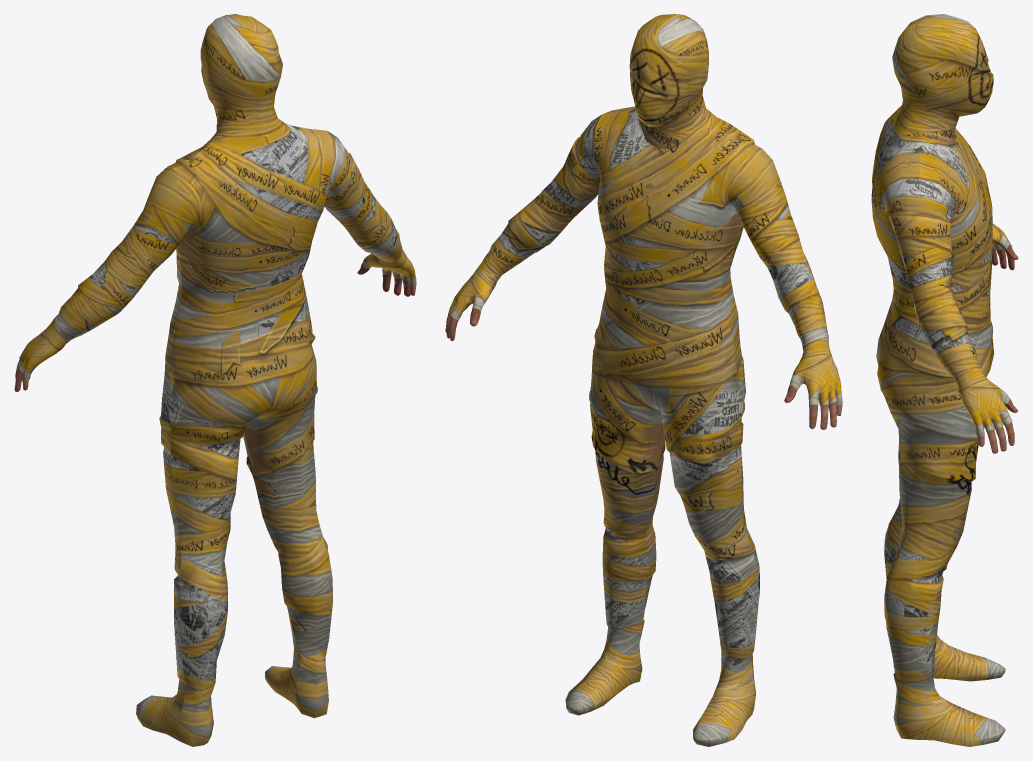
Rendered from pubg_mobile_mummy_character.glb.
3 views of the same model, side by side, from view 1: azimuth 30°, elevation 25°; view 2: azimuth 150°, elevation 25°; view 3: azimuth 270°, elevation 25° (orthographic).
Visible parts, largest first — view 1: body_0, fringers_1; view 2: body_0, fringers_1; view 3: body_0, fringers_1.
Boxes of the visible parts, left/top/right/bottom form: body_0: left=17, top=14, right=416, bottom=746; fringers_1: left=14, top=263, right=416, bottom=391; body_0: left=448, top=14, right=842, bottom=746; fringers_1: left=445, top=308, right=842, bottom=429; body_0: left=871, top=14, right=1012, bottom=746; fringers_1: left=977, top=244, right=1018, bottom=453.
Size of what is drawn, in the model's own units: 1.07 by 1.81 by 0.3494.
Materials: 3 (3 with a texture image).
